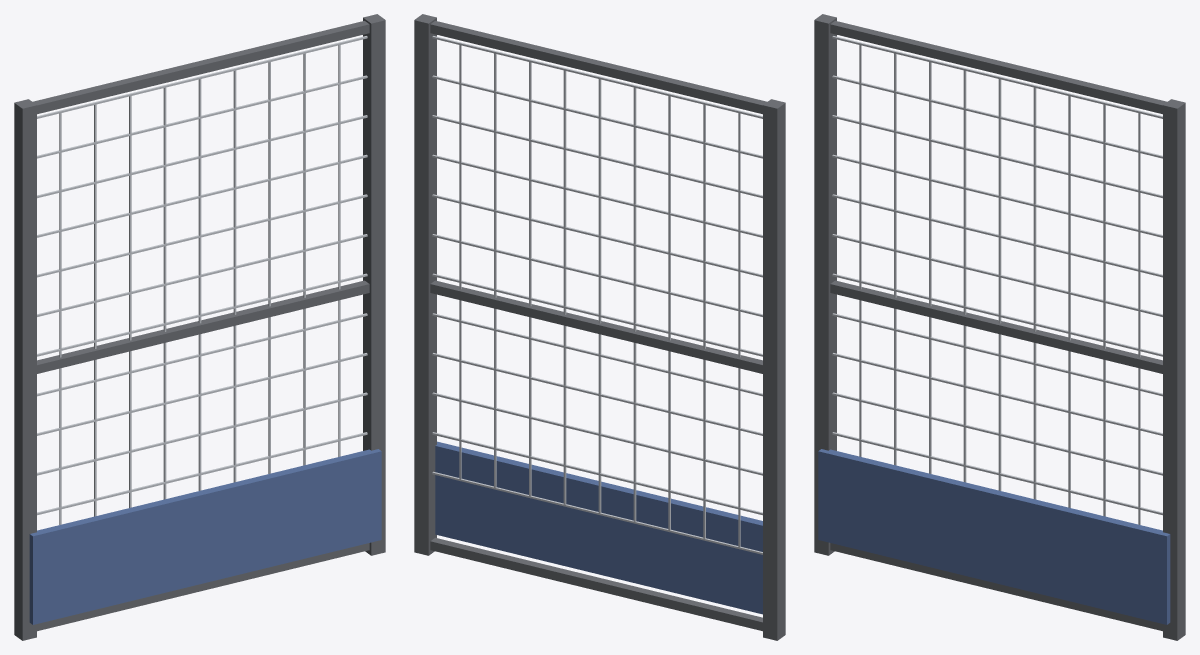
Rendered from baseball-park-and-batting-cages-backstop-fence-panel-abdb5cef__33753.glb.
The picture shows the model from 3 angles, left to right: view 1: azimuth 30°, elevation 25°; view 2: azimuth 150°, elevation 25°; view 3: azimuth 330°, elevation 25°; orthographic projection.
Visible parts, largest first — view 1: backstop-fence-panel; view 2: backstop-fence-panel; view 3: backstop-fence-panel.
Part boxes in pixels (left/top/right/bottom): backstop-fence-panel: left=14, top=14, right=385, bottom=640; backstop-fence-panel: left=414, top=14, right=785, bottom=640; backstop-fence-panel: left=814, top=14, right=1185, bottom=640.
Size of the model in its own units: 3 by 4.2 by 0.165.
